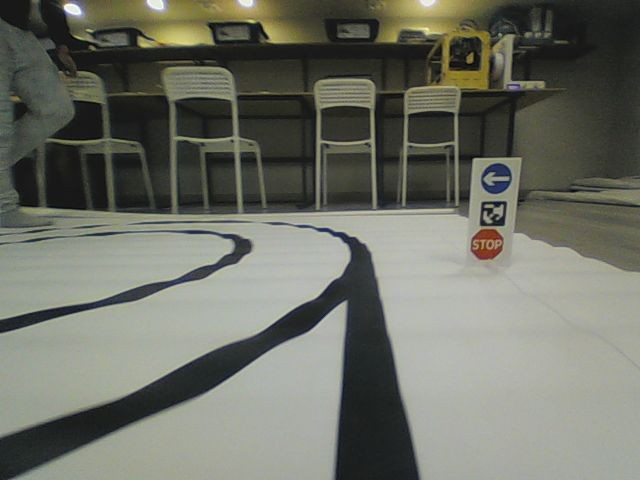Stop: (470, 227, 503, 262)
